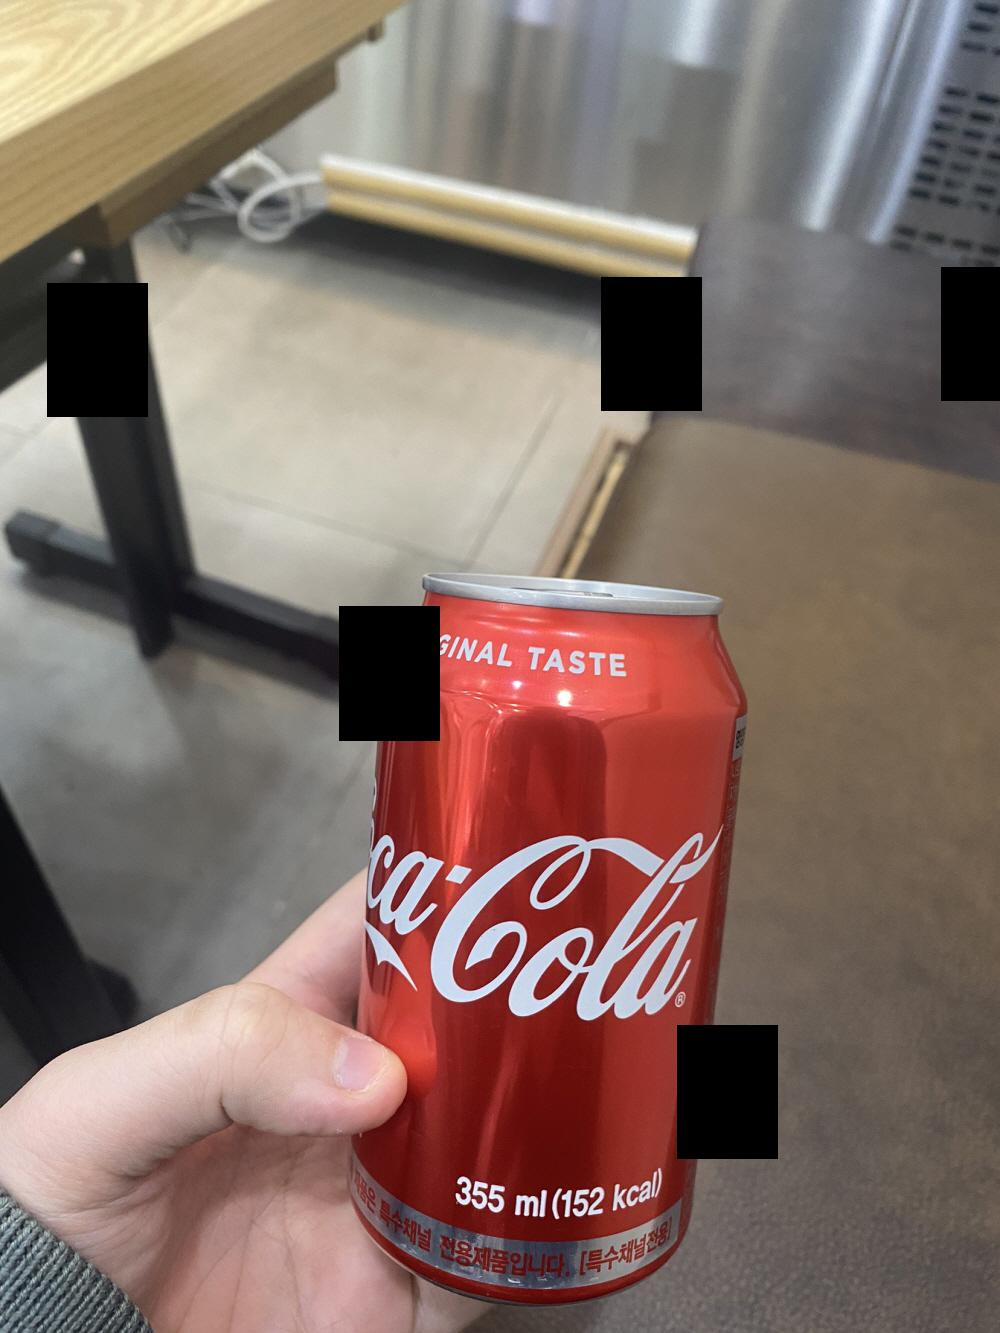cocacola: (355, 584, 752, 1301)
